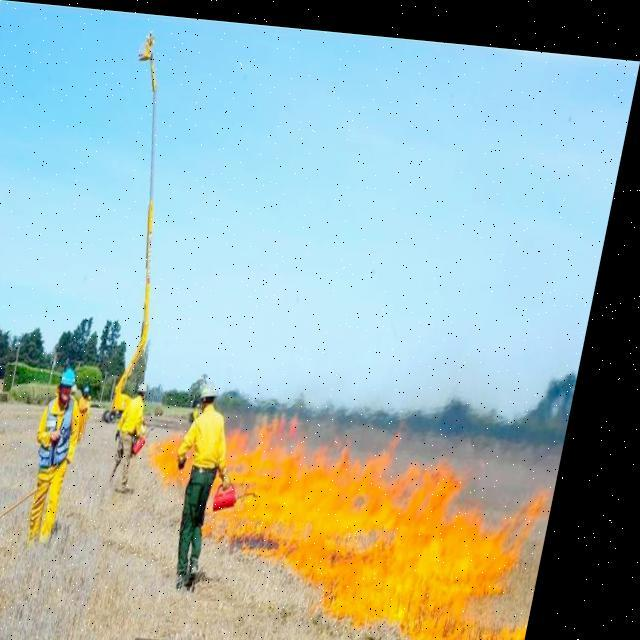Fire: (205, 401, 580, 639), (160, 422, 217, 478)
